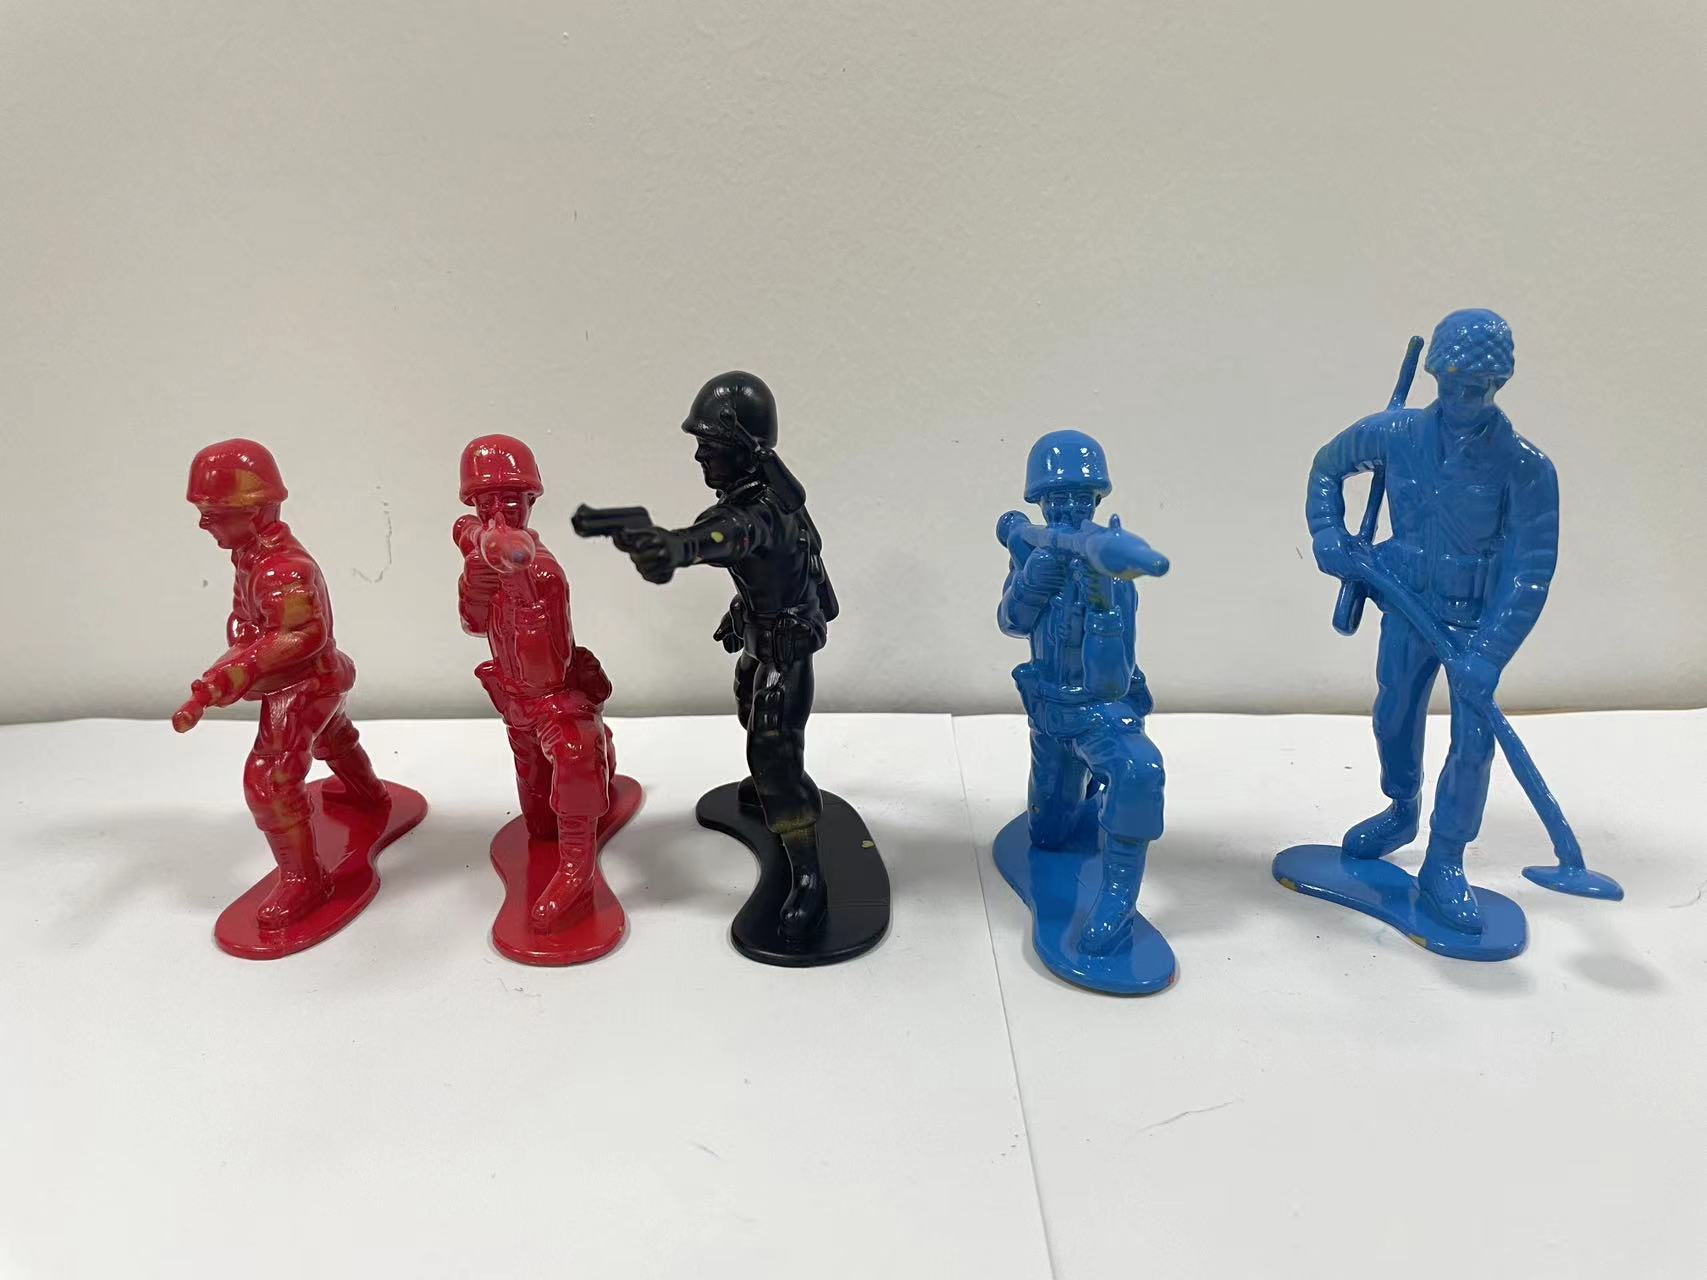black: (601, 333, 927, 1023)
blue: (1267, 280, 1634, 1021), (976, 389, 1203, 1021)
red: (142, 415, 442, 994), (430, 406, 649, 982)
